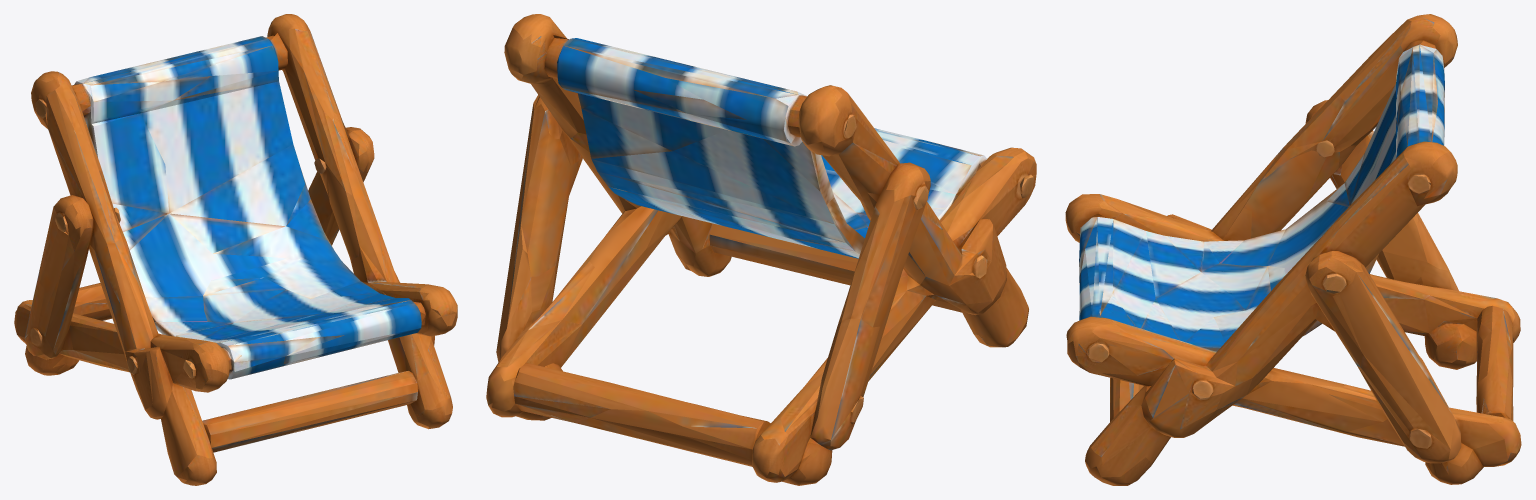
File: strand-liggestol.glb
The picture shows the model from 3 angles, left to right: view 1: azimuth 30°, elevation 25°; view 2: azimuth 150°, elevation 25°; view 3: azimuth 270°, elevation 25°; orthographic projection. The views are drawn at different scales.
Size of the model in its own units: 1.65 by 1.58 by 1.9.
Materials: 1 (1 with a texture image).
